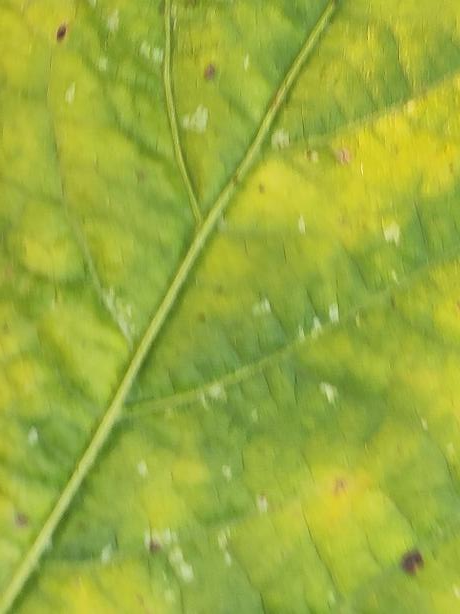doenca: (259, 130, 391, 242), (384, 523, 442, 578), (107, 515, 173, 555), (313, 463, 362, 506), (41, 11, 77, 62), (185, 48, 221, 88)
